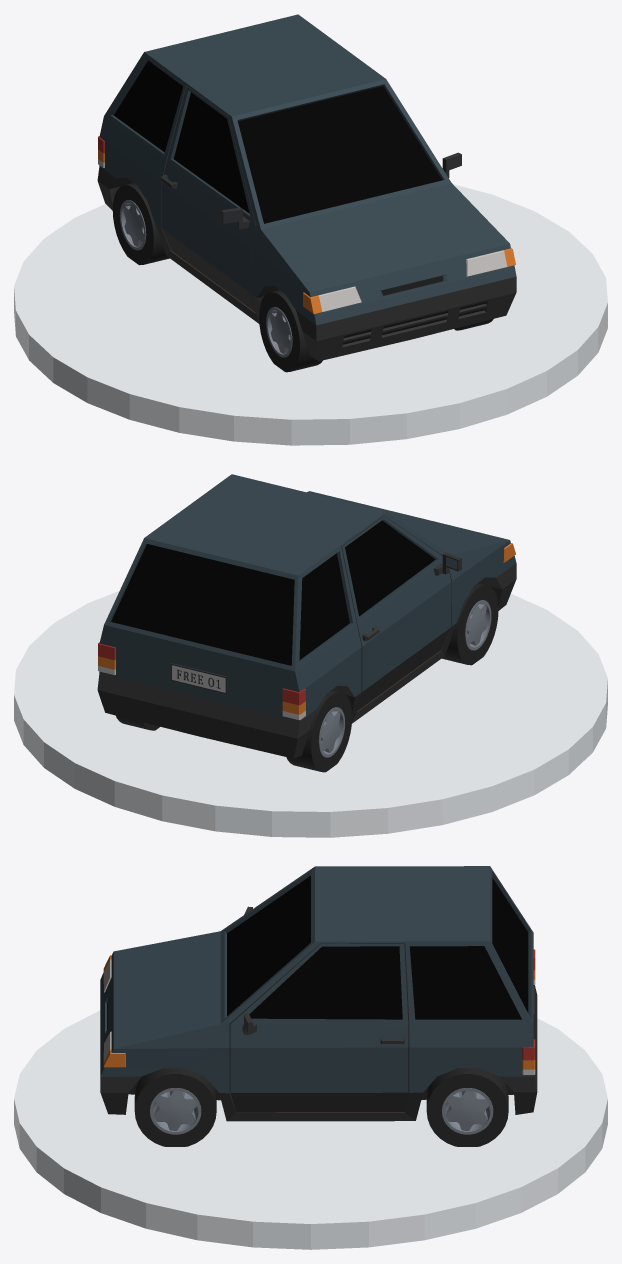
File: car.glb
The picture shows the model from 3 angles, top to bottom: view 1: azimuth 30°, elevation 25°; view 2: azimuth 150°, elevation 25°; view 3: azimuth 270°, elevation 25°; orthographic projection.
Parts seen in each view (by area): view 1: Cylinder, car body, windows, door r, win door r.001, wheel fr, wheel br; view 2: Cylinder, car body, windows, door r, win door r.001, wheel br, wheel fr, free number; view 3: Cylinder, car body, door l, windows, win door l.001, wheel bl, wheel fl.
Boxes of the visible parts, left/top/right/bottom form: Cylinder: left=14, top=184, right=607, bottom=445; car body: left=97, top=14, right=516, bottom=361; windows: left=114, top=60, right=441, bottom=223; door r: left=160, top=86, right=256, bottom=312; win door r.001: left=174, top=92, right=249, bottom=213; wheel fr: left=259, top=290, right=322, bottom=372; wheel br: left=112, top=183, right=169, bottom=265; Cylinder: left=14, top=591, right=607, bottom=837; car body: left=97, top=474, right=516, bottom=758; windows: left=111, top=544, right=349, bottom=665; door r: left=341, top=516, right=461, bottom=710; win door r.001: left=345, top=520, right=435, bottom=616; wheel br: left=286, top=690, right=352, bottom=772; wheel fr: left=442, top=583, right=498, bottom=665; free number: left=171, top=663, right=227, bottom=694; Cylinder: left=14, top=1010, right=607, bottom=1249; car body: left=100, top=866, right=537, bottom=1121; door l: left=229, top=943, right=409, bottom=1112; windows: left=227, top=875, right=528, bottom=1019; win door l.001: left=249, top=946, right=402, bottom=1019; wheel bl: left=426, top=1068, right=508, bottom=1146; wheel fl: left=134, top=1068, right=216, bottom=1146.
Bounding box in the file's own units: 4.7 × 1.93 × 4.7.
Materials: 5 (1 with a texture image).
